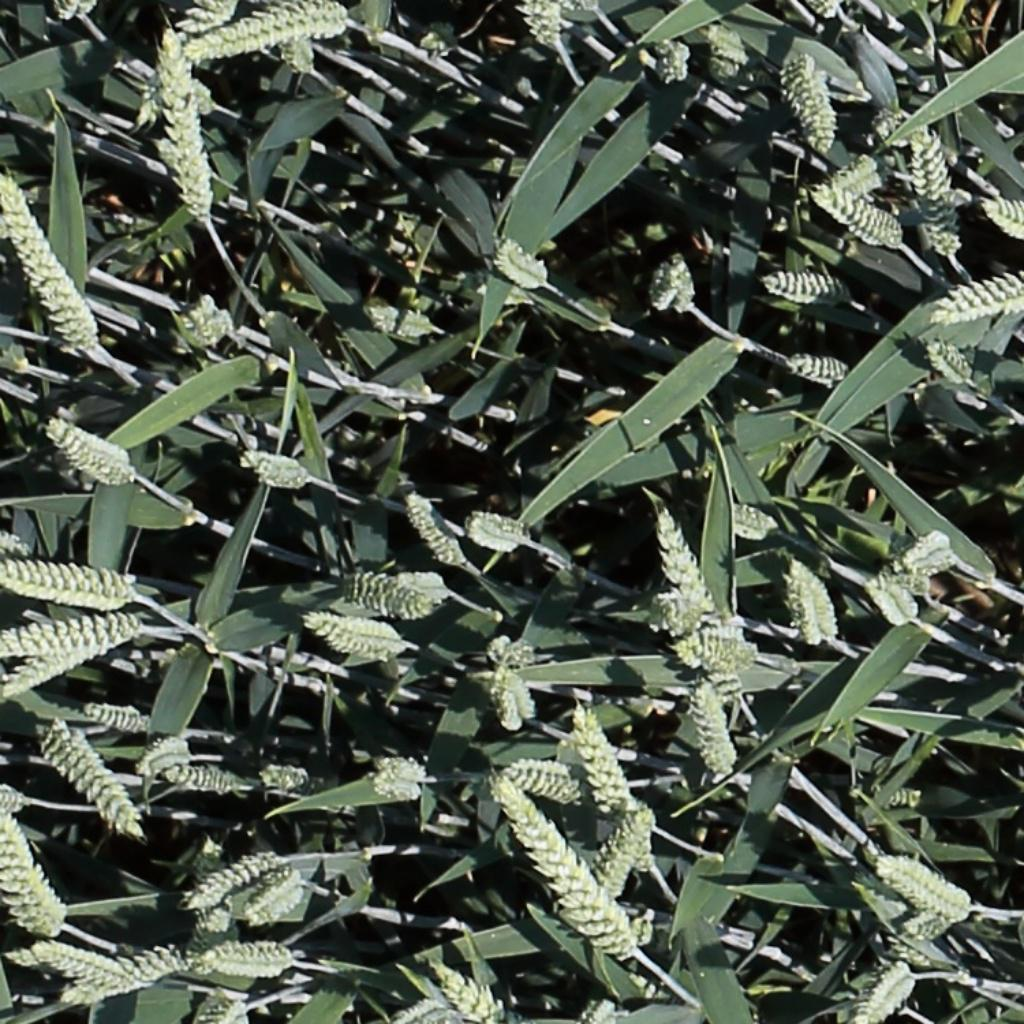0-0: (477, 777, 635, 966), (0, 163, 96, 350), (36, 719, 151, 849), (153, 26, 224, 232), (196, 0, 353, 71), (132, 3, 224, 113), (0, 785, 61, 940), (912, 121, 974, 269), (780, 50, 861, 161), (0, 551, 137, 616), (63, 943, 190, 1011), (871, 847, 981, 915), (0, 606, 147, 656), (570, 701, 632, 819), (46, 417, 141, 493), (188, 836, 285, 908), (812, 184, 910, 254), (679, 678, 742, 784), (1, 638, 108, 700), (656, 506, 711, 625), (921, 274, 1024, 336), (780, 557, 844, 655), (400, 484, 469, 572), (667, 616, 765, 677), (838, 957, 921, 1024), (502, 741, 590, 802), (598, 808, 653, 902), (203, 939, 303, 988), (341, 566, 437, 617), (484, 656, 545, 736), (889, 518, 969, 579), (458, 504, 539, 563), (635, 249, 697, 326), (431, 959, 503, 1024), (178, 902, 237, 981), (492, 232, 559, 300), (180, 287, 244, 355), (757, 264, 851, 310), (917, 332, 983, 396), (236, 441, 312, 492), (67, 691, 145, 740), (717, 492, 786, 547), (776, 343, 854, 391), (827, 149, 892, 204), (314, 626, 412, 662), (32, 943, 120, 983), (363, 300, 441, 345), (247, 877, 307, 934), (150, 762, 245, 798), (705, 24, 756, 87), (866, 572, 921, 630), (135, 727, 199, 776), (645, 29, 697, 89), (511, 0, 565, 57), (292, 606, 386, 638), (868, 99, 917, 159), (479, 624, 540, 672), (897, 902, 969, 942), (377, 983, 449, 1022), (873, 774, 927, 825), (251, 754, 314, 796), (972, 193, 1023, 240), (378, 746, 434, 787), (283, 20, 319, 80), (3, 943, 45, 986), (191, 984, 233, 1024), (371, 778, 423, 801), (584, 991, 619, 1022), (218, 995, 251, 1024), (0, 779, 24, 809)
